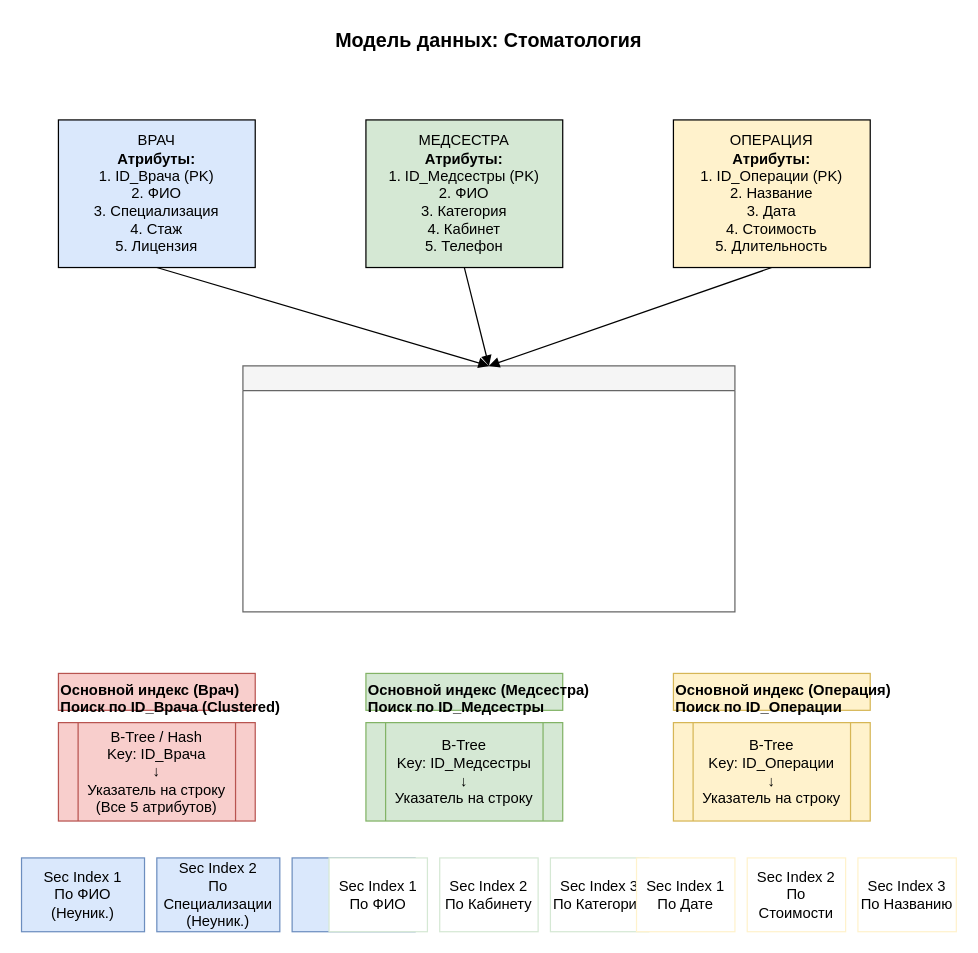
Image size: 978x953. Some labels were removed from this diagram. The shapes that lost their labels are listed below. From the top down, each one's box as (x1, y1, x2, y2) in pixels, then its label:
(242, 365, 735, 612): СТОМАТОЛОГИЧЕСКОЕ ОТДЕЛЕНИЕ
(291, 857, 415, 932): Sec Index 3 По Стажу (Range Query)
